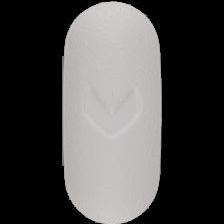55154-2081: (0, 0, 224, 224)
